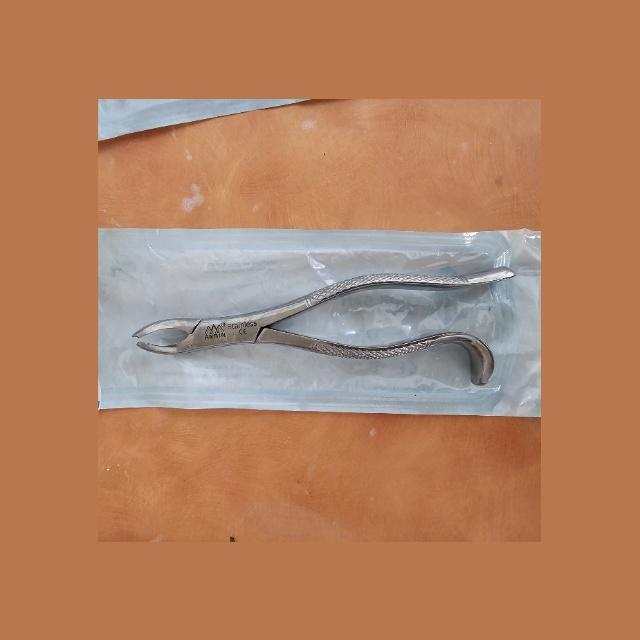forceps: (133, 267, 516, 386)
